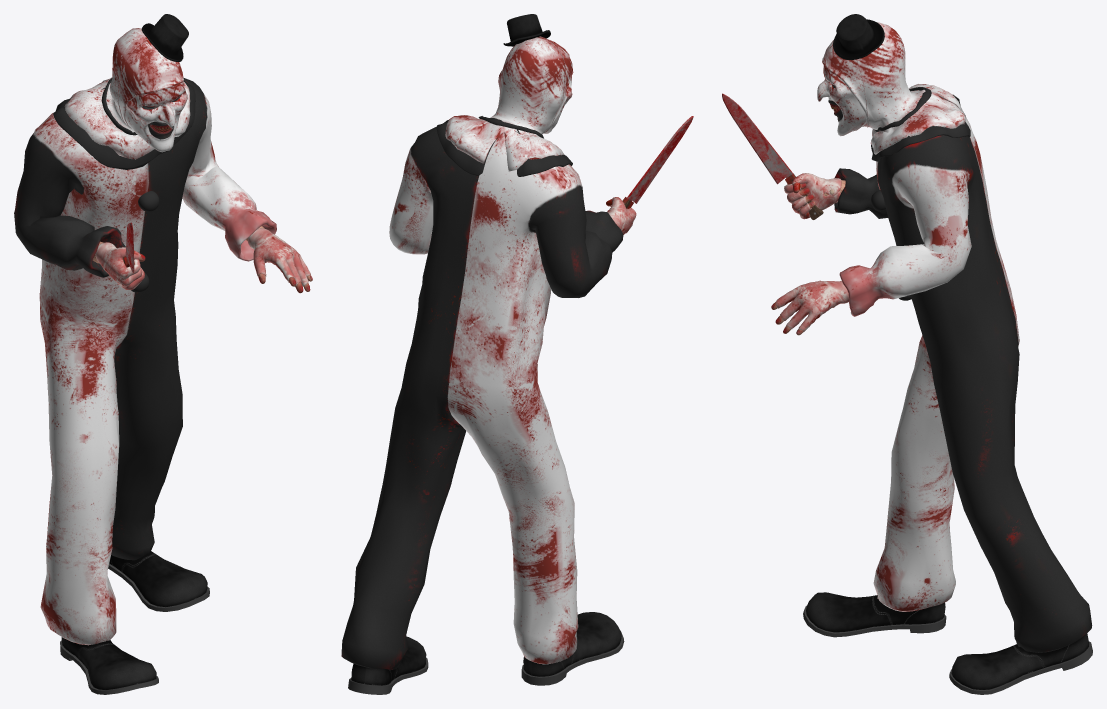
The picture shows the model from 3 angles, left to right: view 1: azimuth 30°, elevation 25°; view 2: azimuth 150°, elevation 25°; view 3: azimuth 270°, elevation 25°; orthographic projection. The views are drawn at different scales.
Parts seen in each view (by area): view 1: body_retopo, boot_lp, hood_retopo, glove_retopo, mask_retopo, hood2_retopo, hat_retopo; view 2: body_retopo, hood_retopo, boot_lp, hood2_retopo, knife, hat_retopo, glove_retopo; view 3: body_retopo, boot_lp, hood_retopo, glove_retopo, knife, hat_retopo, mask_retopo, hood2_retopo.
Boxes of the visible parts, x1,y1,x2,y2 form: body_retopo: [14, 77, 276, 645]; boot_lp: [60, 551, 209, 694]; hood_retopo: [64, 28, 190, 159]; glove_retopo: [95, 228, 310, 290]; mask_retopo: [125, 82, 187, 152]; hood2_retopo: [53, 80, 195, 169]; hat_retopo: [141, 14, 188, 61]; body_retopo: [341, 127, 623, 670]; hood_retopo: [445, 37, 573, 171]; boot_lp: [348, 612, 624, 694]; hood2_retopo: [436, 120, 572, 176]; knife: [622, 116, 693, 208]; hat_retopo: [503, 14, 550, 46]; glove_retopo: [607, 197, 636, 234]; body_retopo: [834, 108, 1092, 652]; boot_lp: [803, 592, 1092, 694]; hood_retopo: [822, 22, 965, 154]; glove_retopo: [776, 173, 849, 332]; knife: [722, 93, 823, 219]; hat_retopo: [833, 14, 884, 60]; mask_retopo: [817, 65, 866, 136]; hood2_retopo: [871, 94, 970, 161].
Size of the model in its own units: 0.6651 by 1.85 by 0.9798.
Materials: 4 (3 with a texture image).
